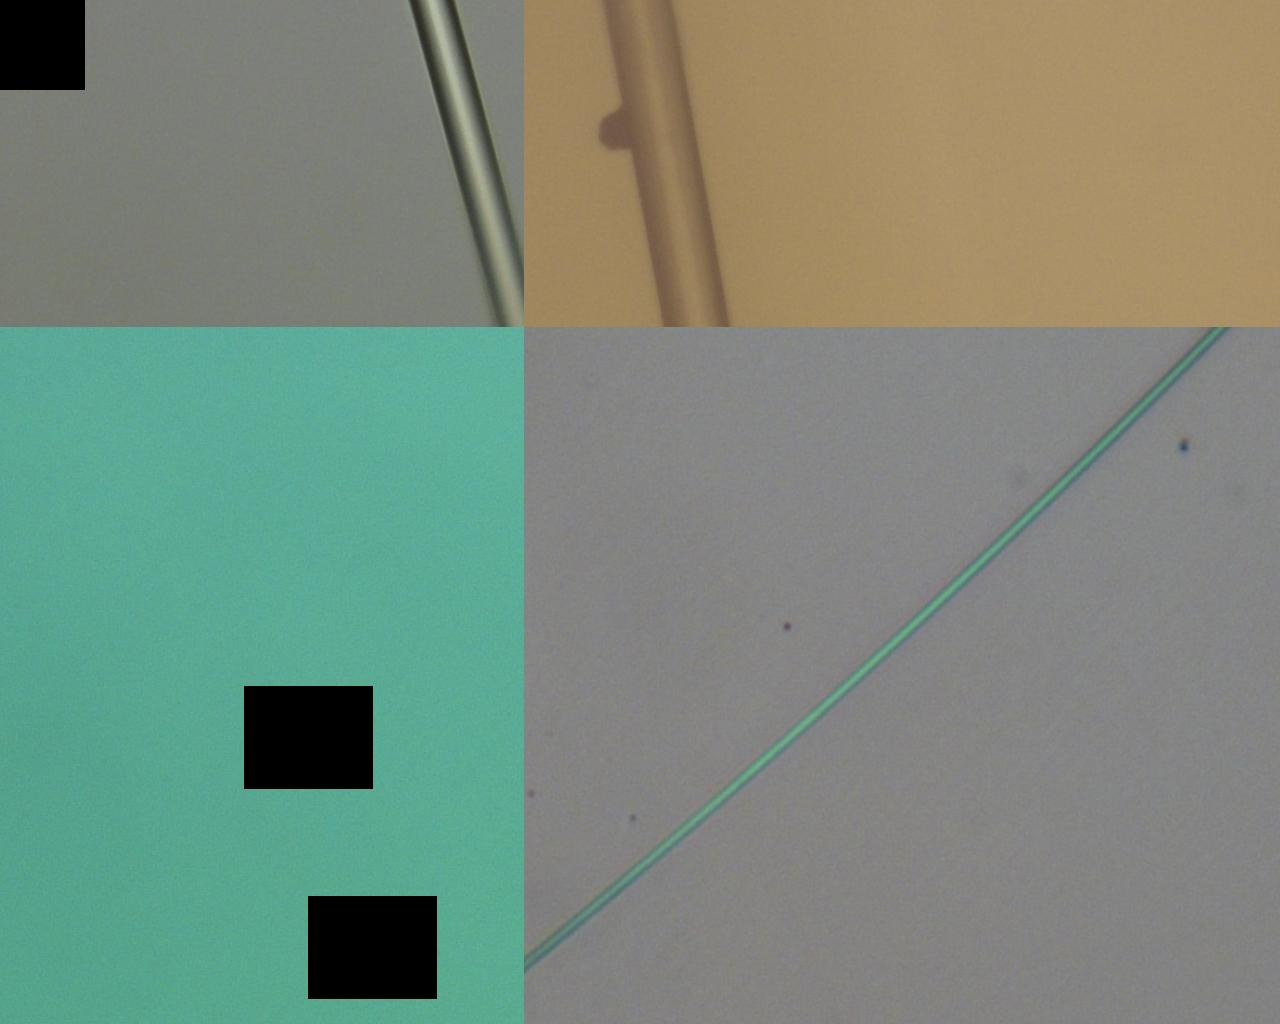fiber: (1063, 471, 1280, 1024), (459, 0, 531, 471), (643, 0, 714, 471)
